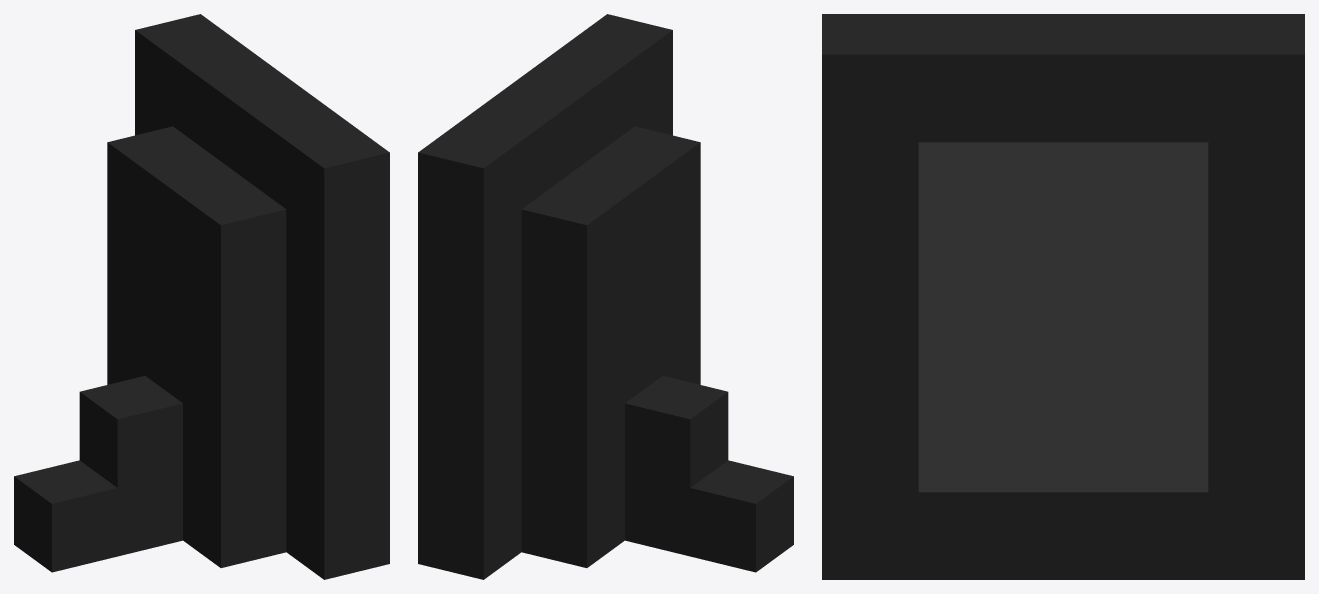
The model's file is F_Photo.obj.
3 views of the same model, side by side, from view 1: azimuth 30°, elevation 25°; view 2: azimuth 150°, elevation 25°; view 3: azimuth 270°, elevation 25° (orthographic). The views are drawn at different scales.
Size of the model in its own units: 0.4 by 0.6 by 0.5.
Materials: 1 (1 with a texture image).
